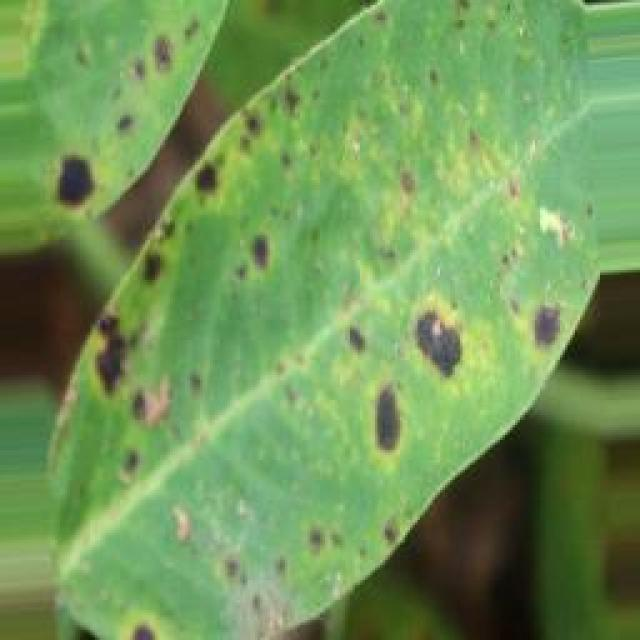Yellowish: (44, 0, 596, 640)
